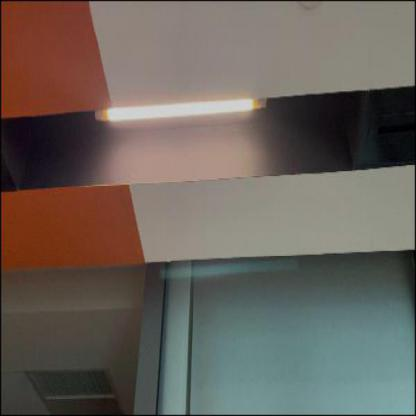light_on: (88, 88, 274, 135)
